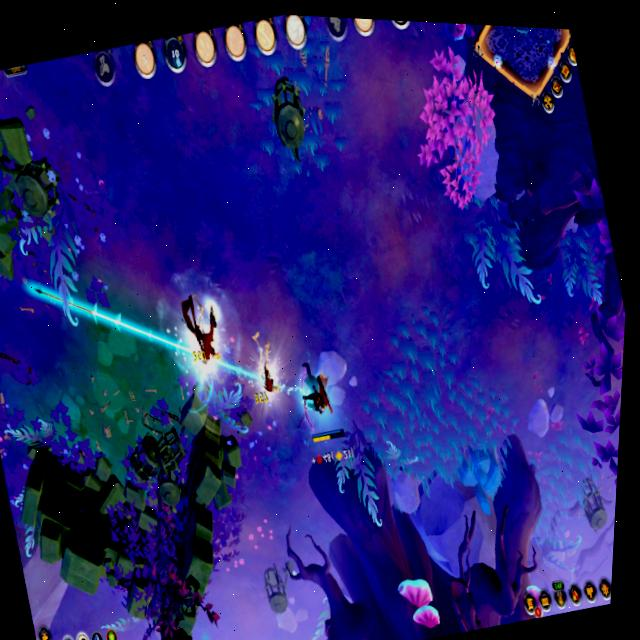ore: (169, 284, 232, 372), (235, 312, 288, 404)
red: (288, 362, 353, 454)
